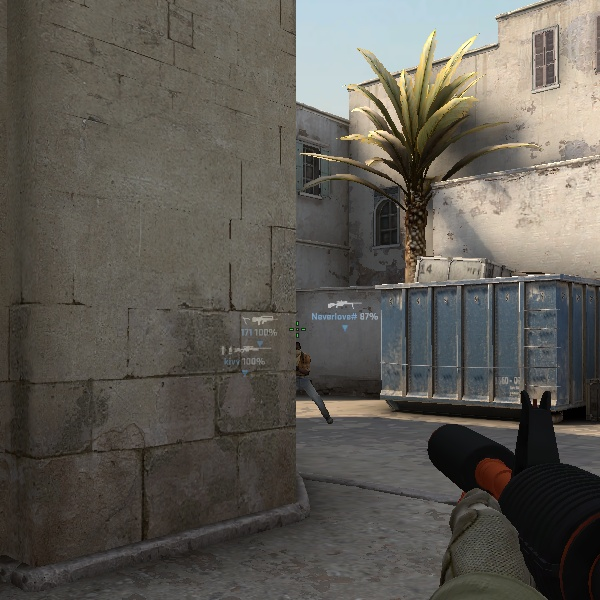t_body: (295, 341, 335, 424)
t_head: (295, 341, 301, 356)
